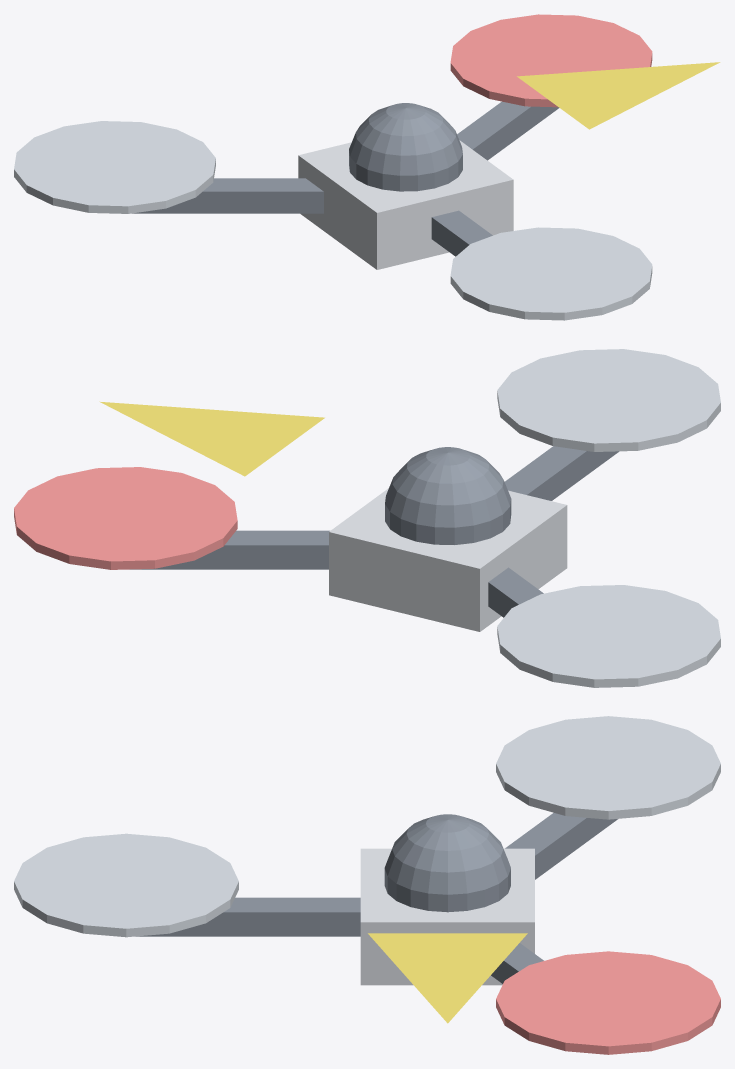
The model's file is tri.glb.
The picture shows the model from 3 angles, top to bottom: view 1: azimuth 30°, elevation 25°; view 2: azimuth 150°, elevation 25°; view 3: azimuth 270°, elevation 25°; orthographic projection. The views are drawn at different scales.
Size of the model in its own units: 29.59 by 5.3 by 26.4.
